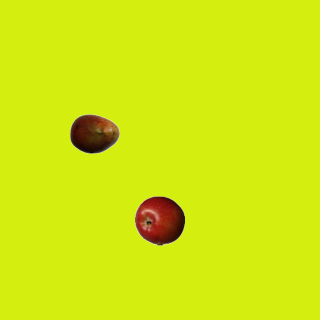Apple Braeburn: (134, 195, 184, 245)
Mango Red: (69, 108, 119, 158)
